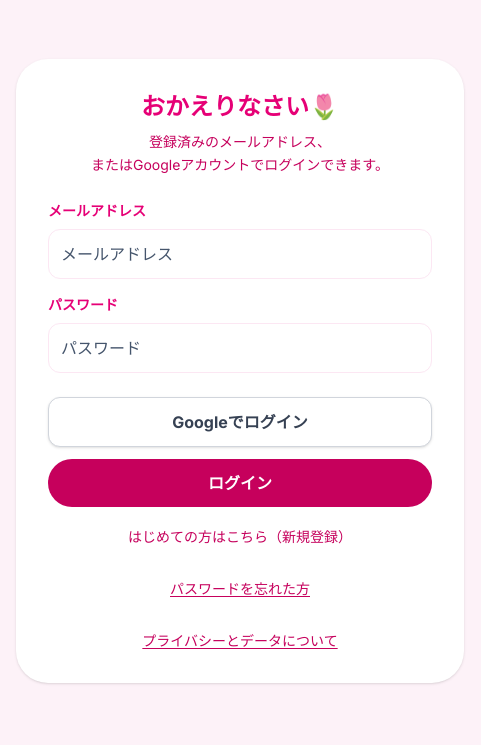
Test: LoginPage › ログインがerrorを返した場合にエラー表示し遷移しない
The width and height of the screenshot is (481, 745).
Type " user@example.com " into the field labelled "メールアドレス".
click(240, 254); type(" user@example.com ")  # box x1=48 y1=229 x2=432 y2=279
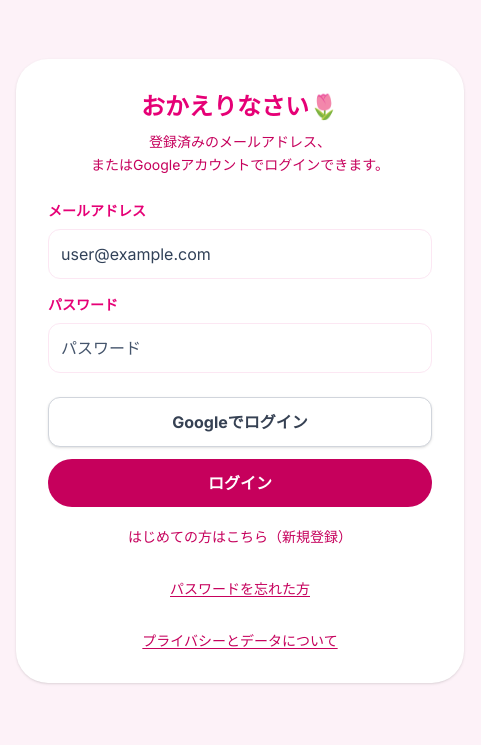
Type "secret" into the password field labelled "パスワード".
click(240, 348); type("secret")  # box x1=48 y1=323 x2=432 y2=373
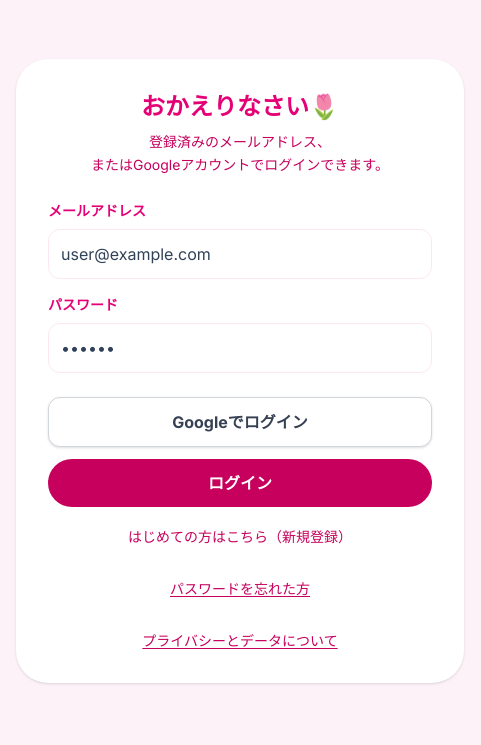
Click the button "ログイン".
click(240, 483)  # box x1=48 y1=459 x2=432 y2=507
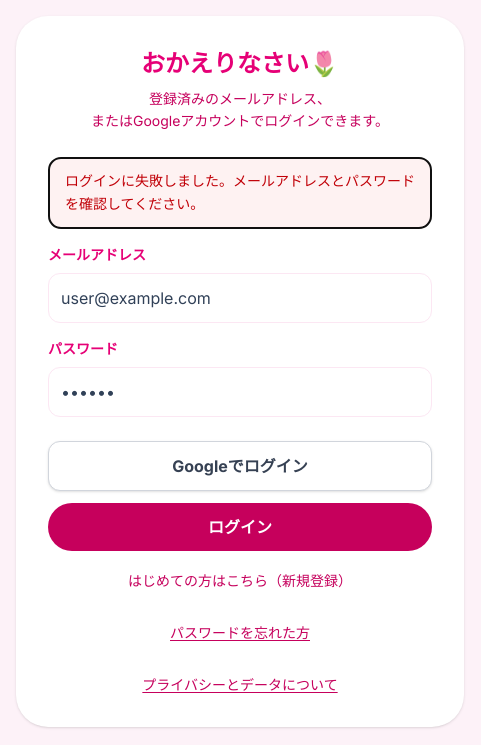
Expected: the message reads "ログインに失敗しました。メールアドレスとパスワードを確認してください。", x1=65 y1=172 x2=415 y2=212
